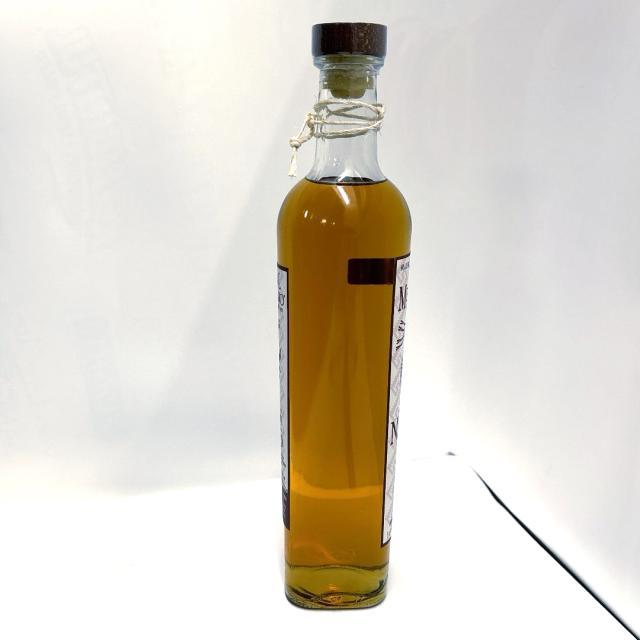MEZCAL-NUCANO-ANEJO-750ml-80proof: (276, 23, 412, 615)
